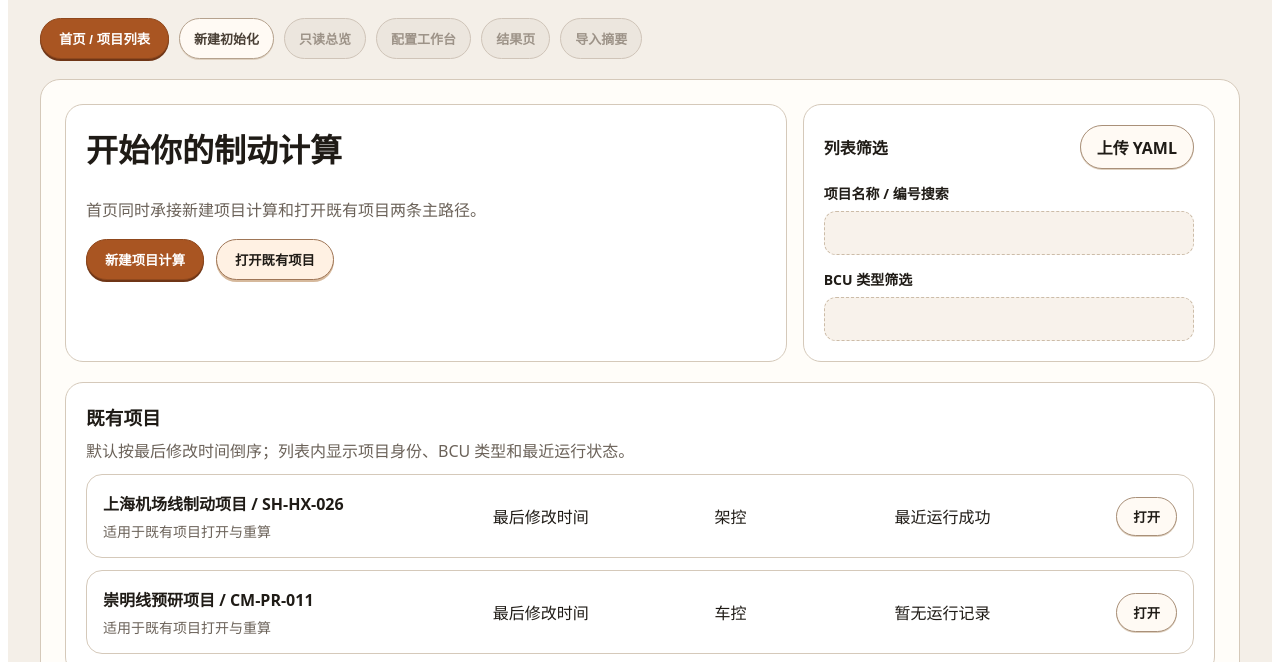
Test: App shell › uses the initializer BCU type and renders the vehicle config page as instance confirmation and adjustment
Click the button "新建初始化": click(227, 38) [179,18,274,59]
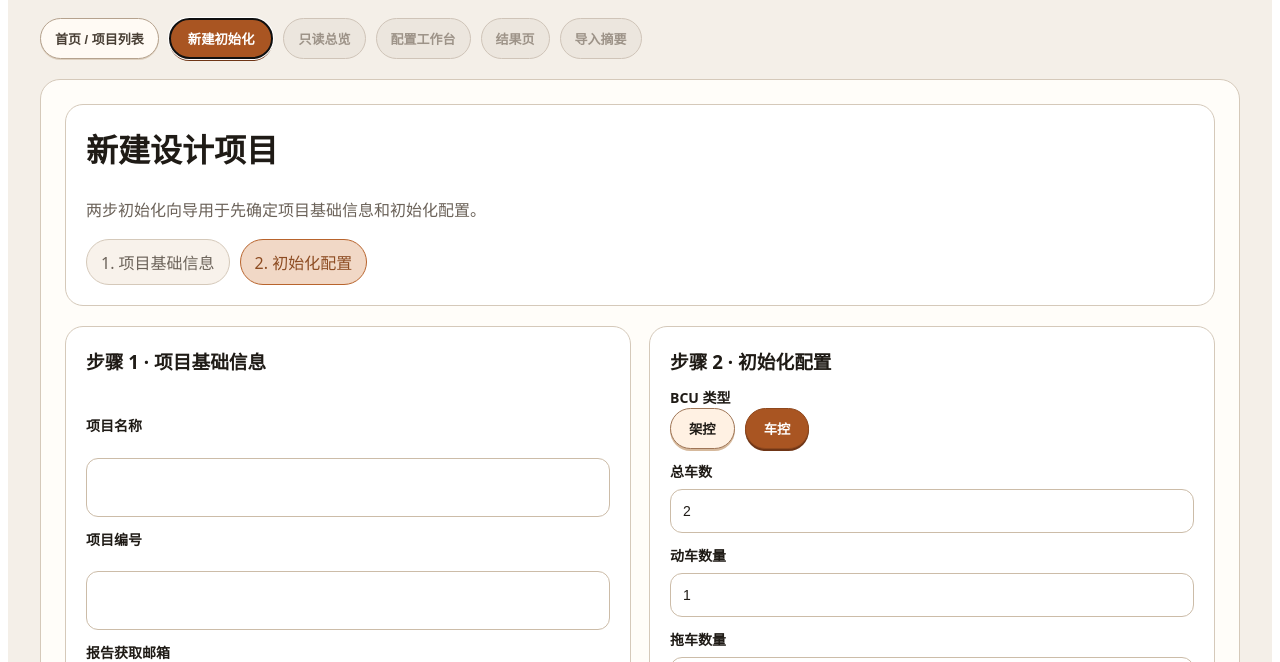
Click the button "架控": click(702, 429) [670,408,735,449]
(page scrolled)
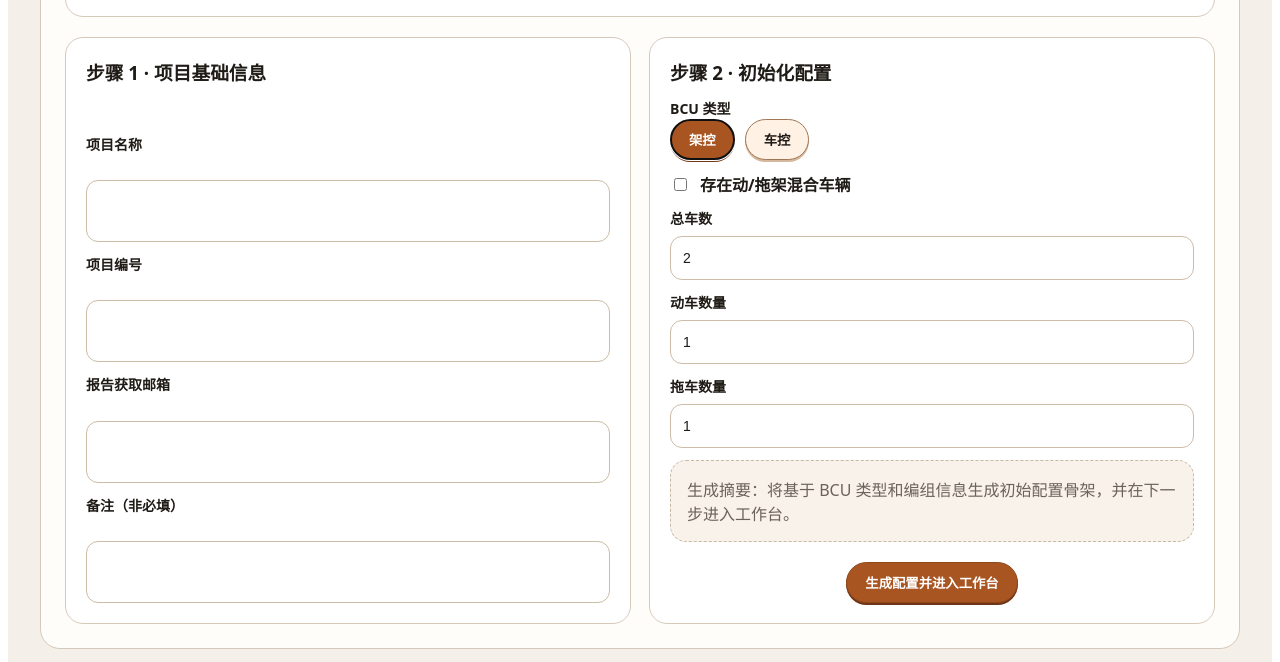
Click the button "生成配置并进入工作台": click(932, 583) [846,562,1018,603]
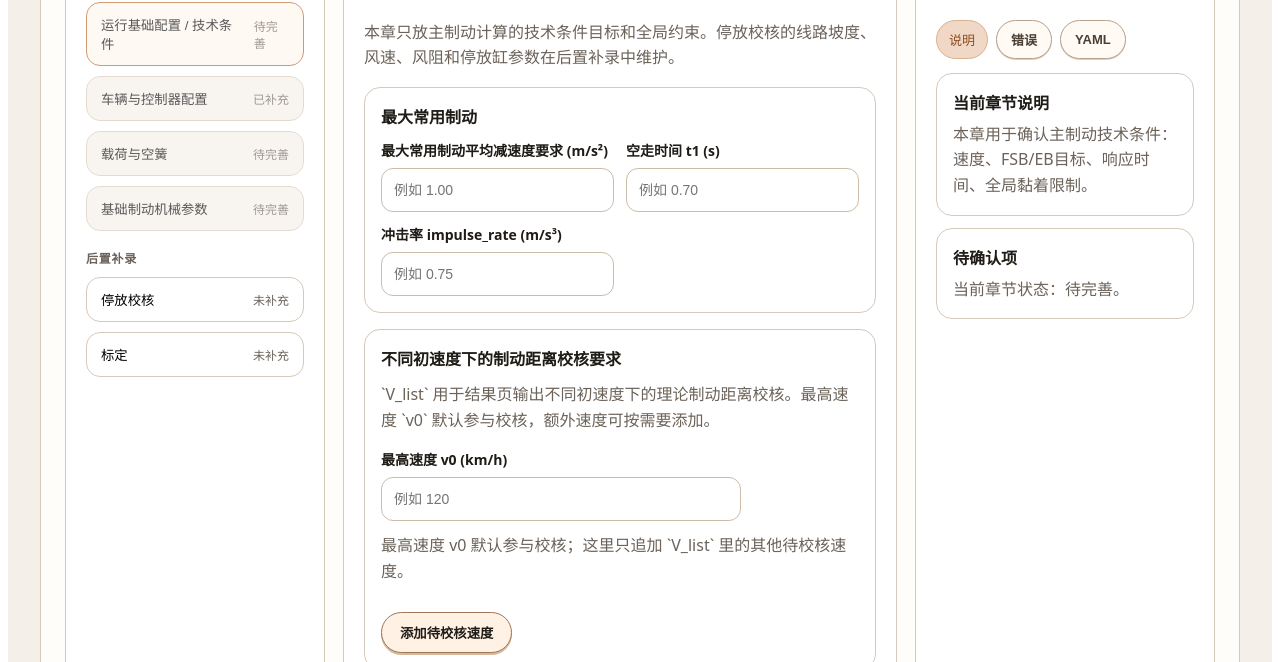
Click the button "车辆与控制器配置 已补充": click(195, 98) [86,76,304,121]
(page scrolled)
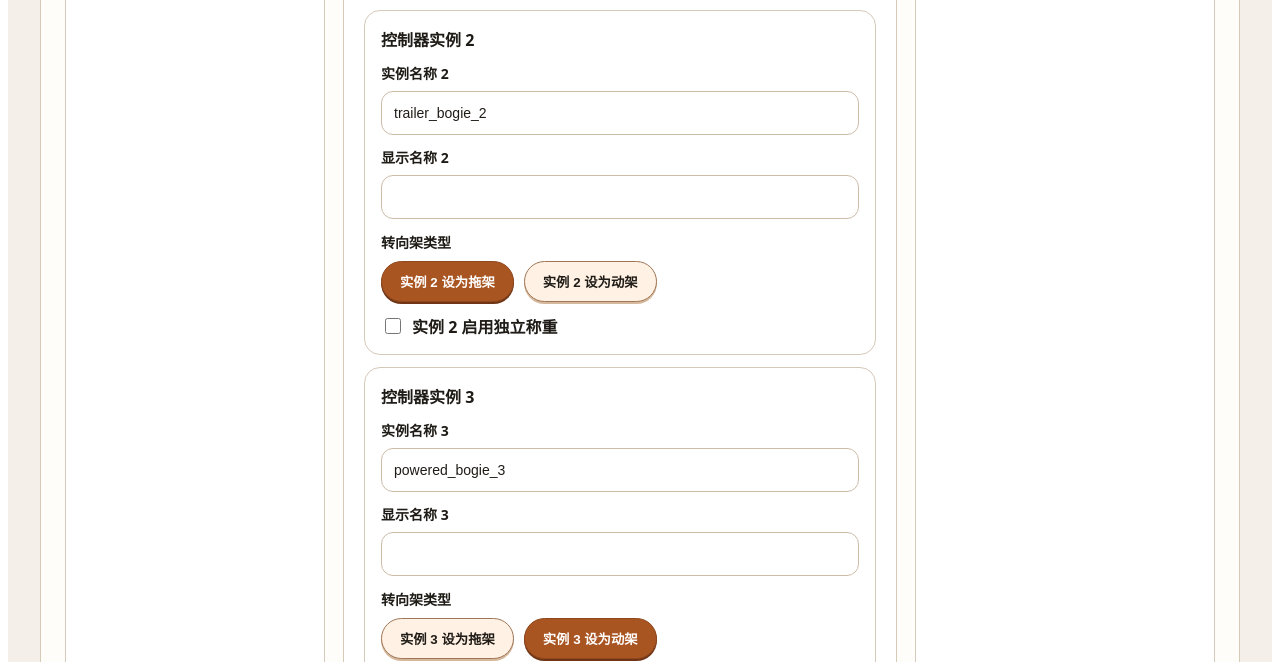
Result: the field named "实例名称 2" holds "trailer_bogie_2" at [382,95,858,131]
